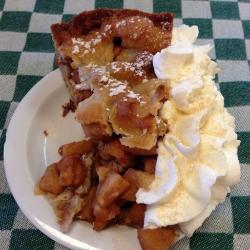apple_pie: (44, 11, 164, 226)
chantilly: (145, 20, 241, 239)
